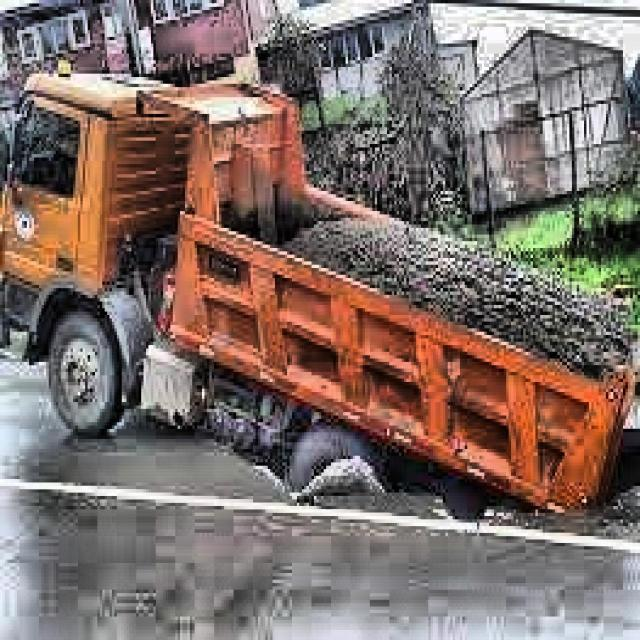dump_truck: (0, 45, 638, 545)
